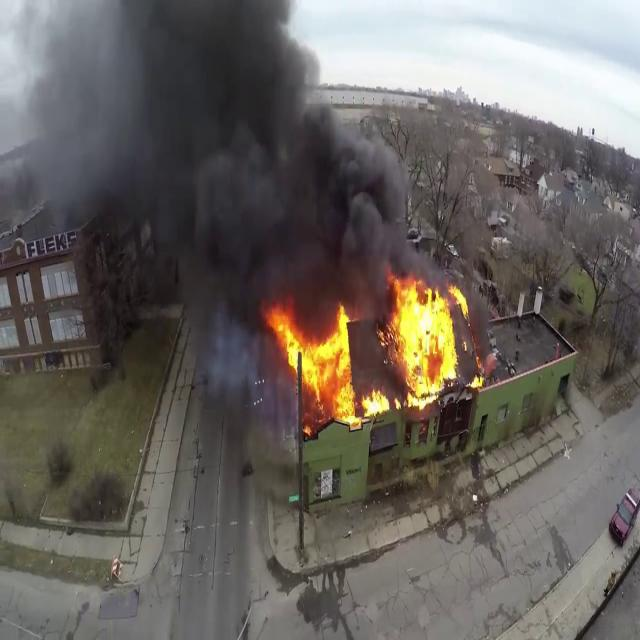Fire: (269, 272, 470, 425)
Smoke: (0, 0, 406, 326)
